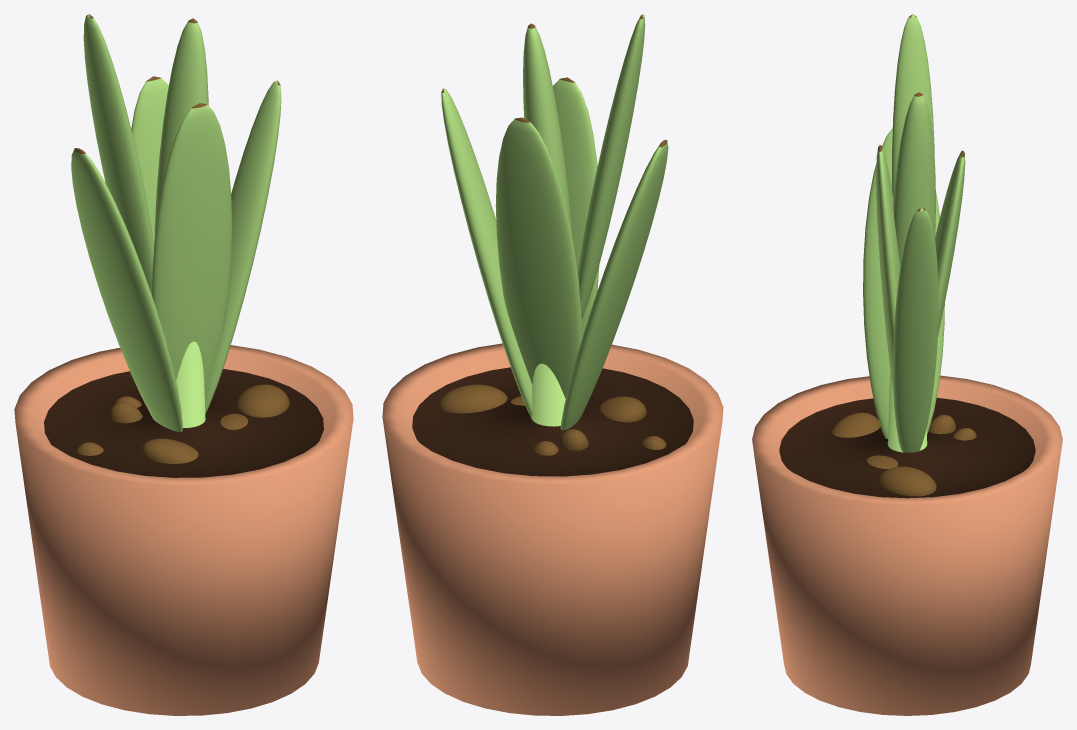
File: plant 1.fbx
The picture shows the model from 3 angles, left to right: view 1: azimuth 30°, elevation 25°; view 2: azimuth 150°, elevation 25°; view 3: azimuth 270°, elevation 25°; orthographic projection. The views are drawn at different scales.
Visible parts, largest first — view 1: Cylinder; view 2: Cylinder; view 3: Cylinder.
Part boxes in pixels (bbox=[...]): Cylinder: bbox=[14, 14, 353, 715]; Cylinder: bbox=[382, 14, 723, 715]; Cylinder: bbox=[752, 14, 1062, 715].
Size of the model in its own units: 251 by 543 by 251.
